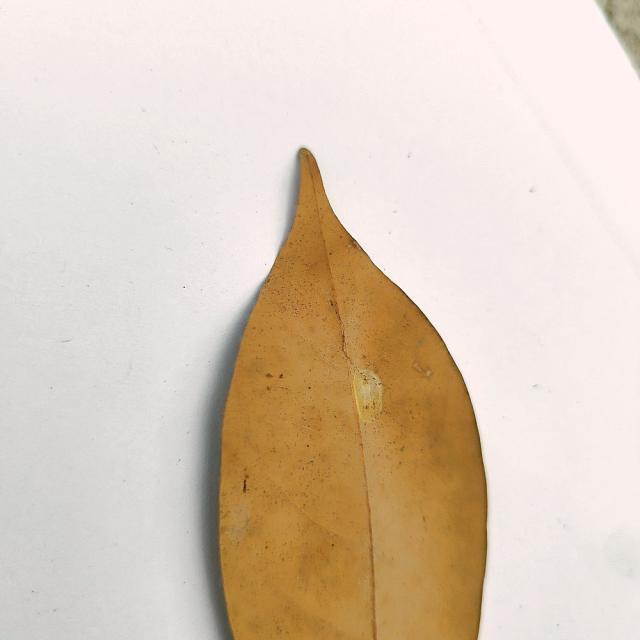Dry_Leaf-Lychee: (216, 150, 489, 639)
